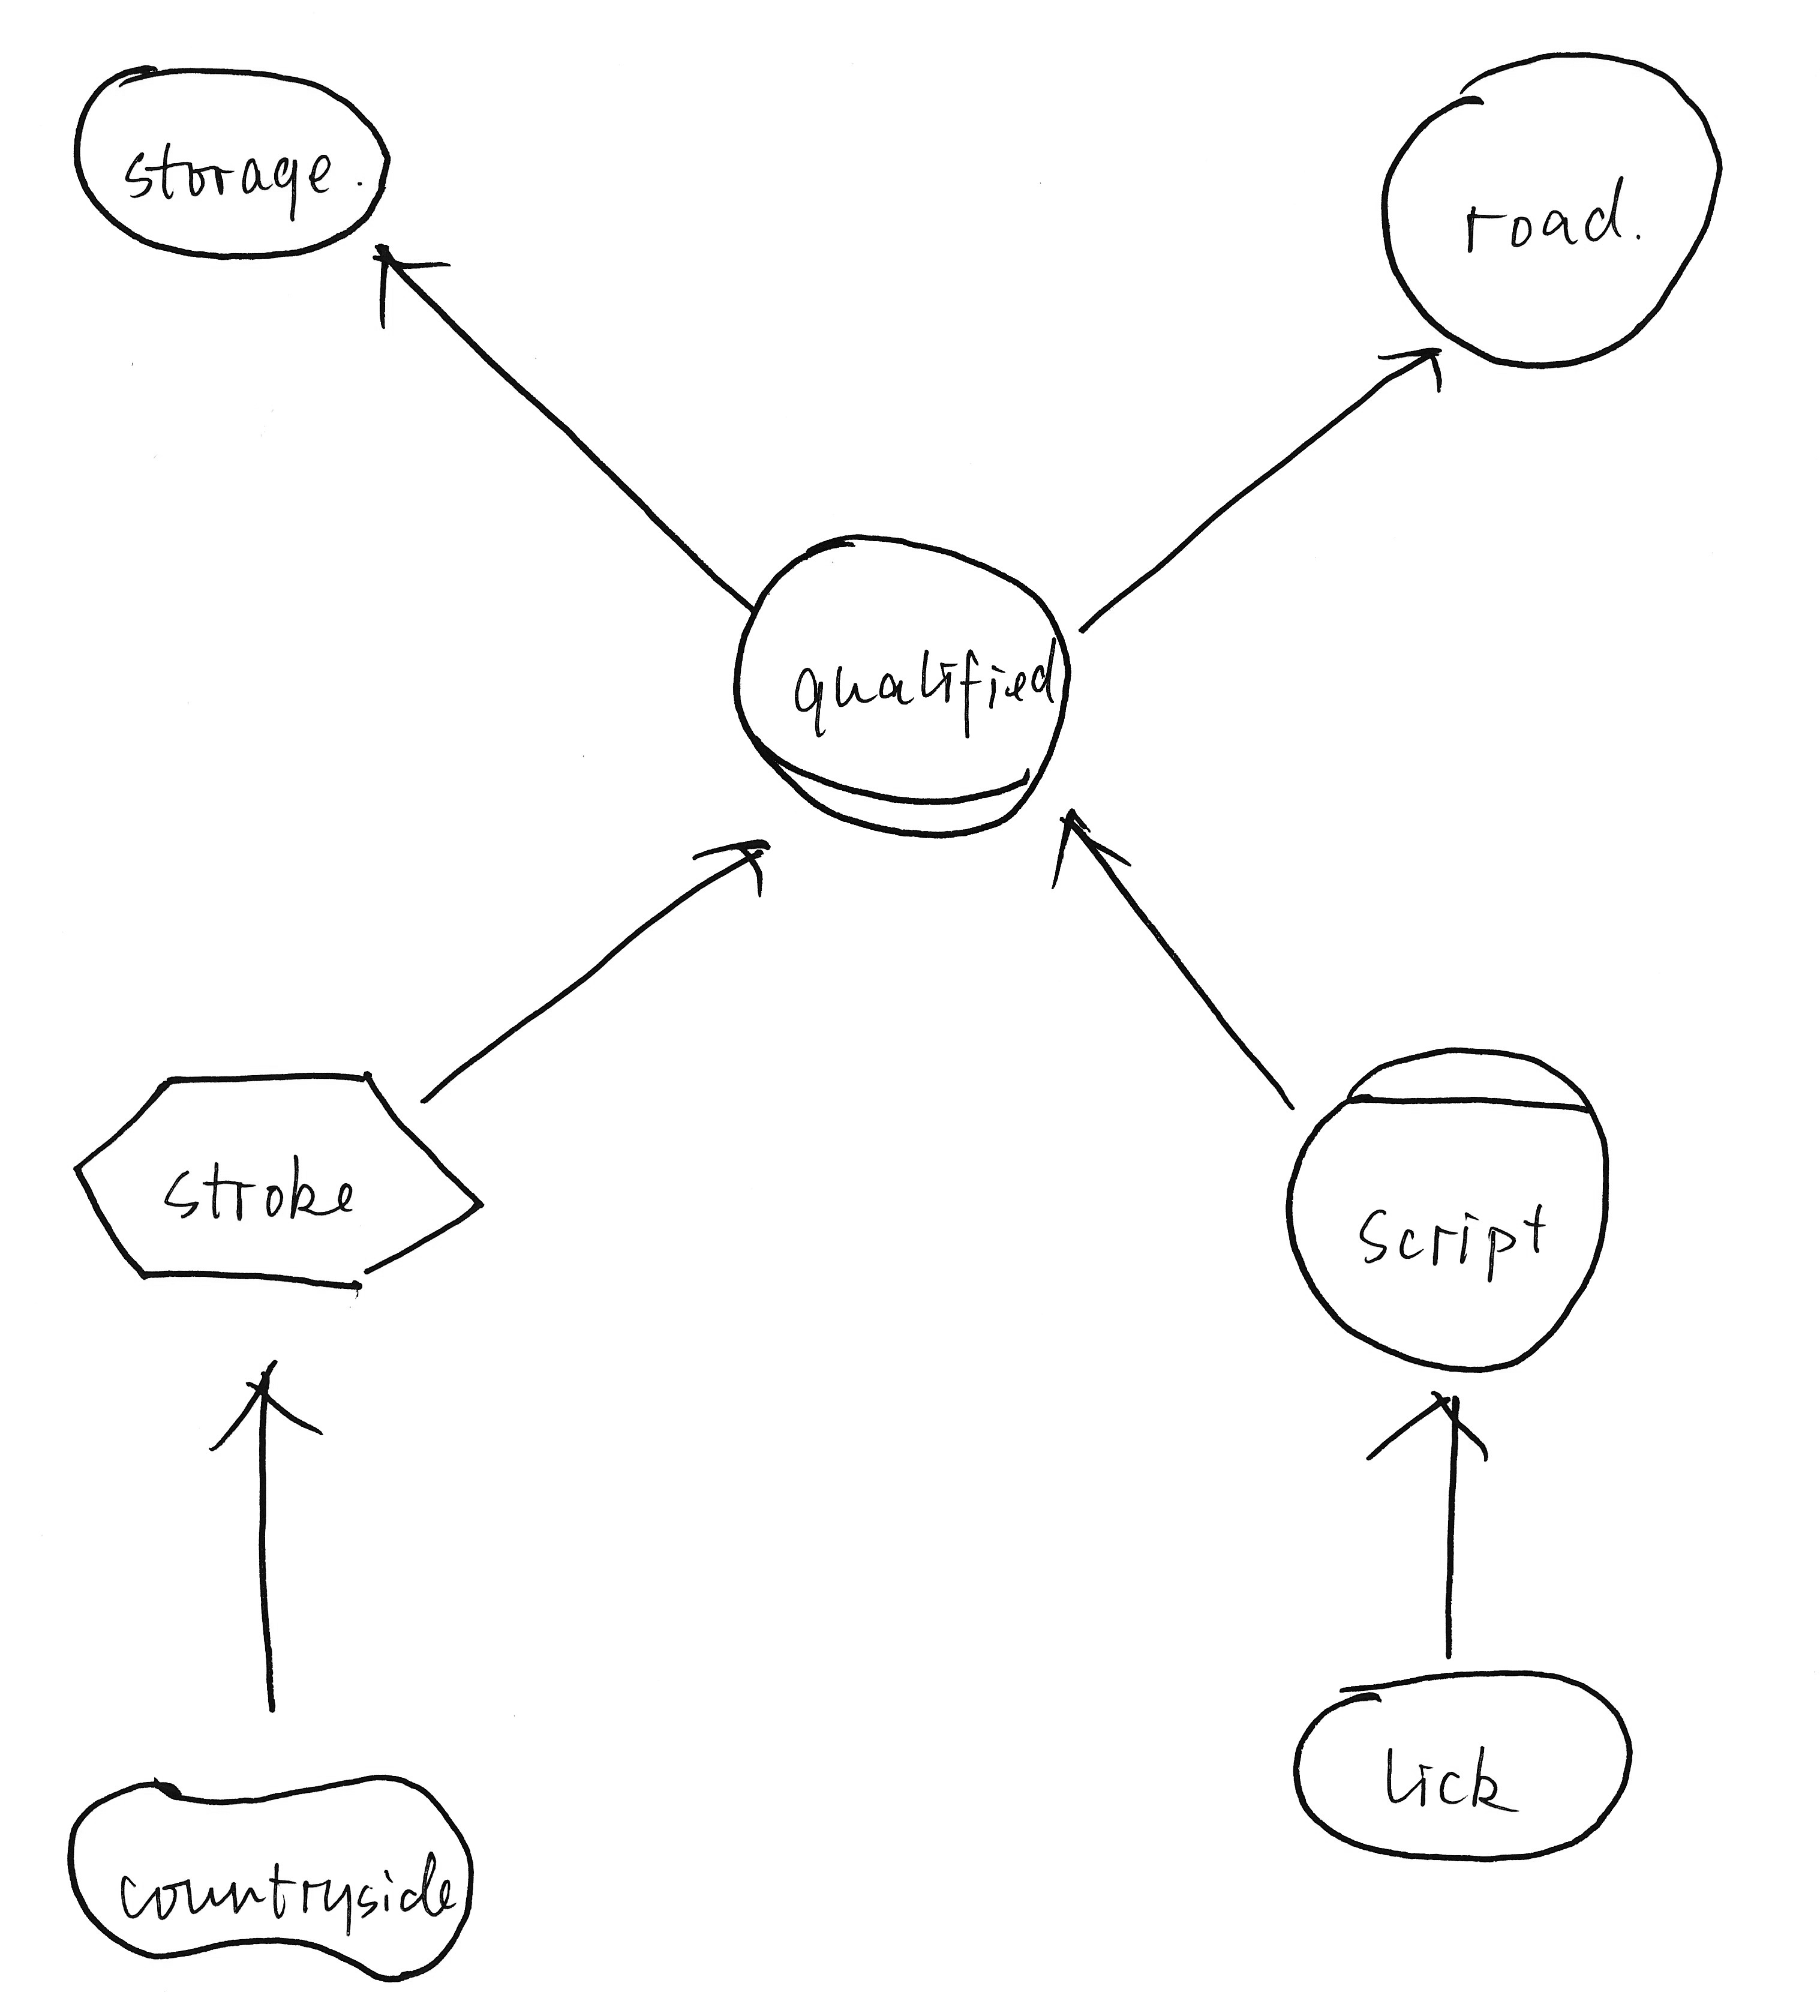actor: (1365, 30, 1736, 385)
agent: (1269, 1020, 1637, 1387)
arrow: (191, 1343, 339, 1465), (1357, 1387, 1502, 1477), (1041, 796, 1143, 906), (363, 227, 460, 339), (676, 820, 790, 911), (1364, 334, 1457, 416)
goal: (1276, 1640, 1643, 1872), (63, 47, 405, 274)
quality: (40, 1749, 490, 1993)
role: (714, 518, 1085, 857)
task: (51, 1038, 500, 1317)
